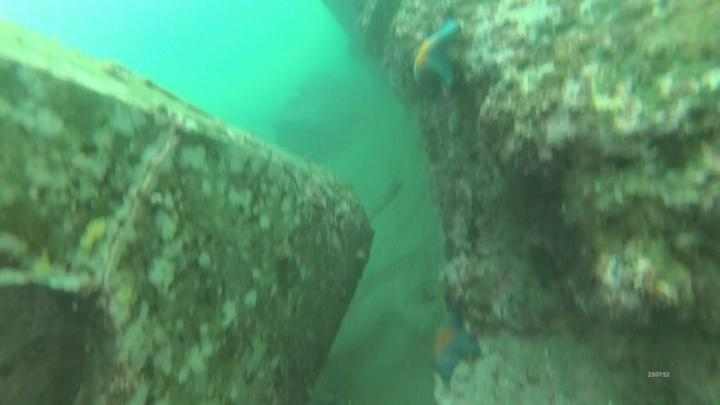starfish: (431, 296, 482, 388), (413, 23, 464, 88)
